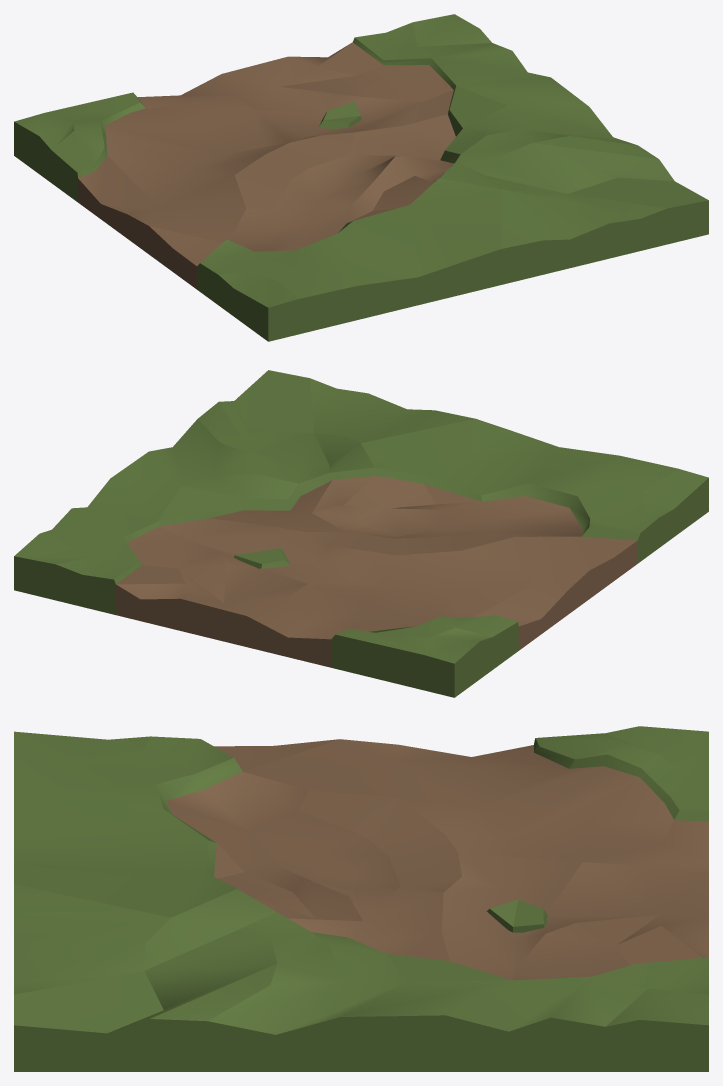
The model's file is Ground_Path_Turn_RB.glb.
The picture shows the model from 3 angles, top to bottom: view 1: azimuth 30°, elevation 25°; view 2: azimuth 150°, elevation 25°; view 3: azimuth 270°, elevation 25°; orthographic projection. The views are drawn at different scales.
Visible parts, largest first — view 1: Ground_Path_Turn_RB; view 2: Ground_Path_Turn_RB; view 3: Ground_Path_Turn_RB.
Part boxes in pixels (bbox=[...]): Ground_Path_Turn_RB: bbox=[14, 14, 708, 341]; Ground_Path_Turn_RB: bbox=[14, 370, 708, 697]; Ground_Path_Turn_RB: bbox=[14, 726, 708, 1071].
Bounding box in the file's own units: 1.47 × 0.1345 × 1.47.
